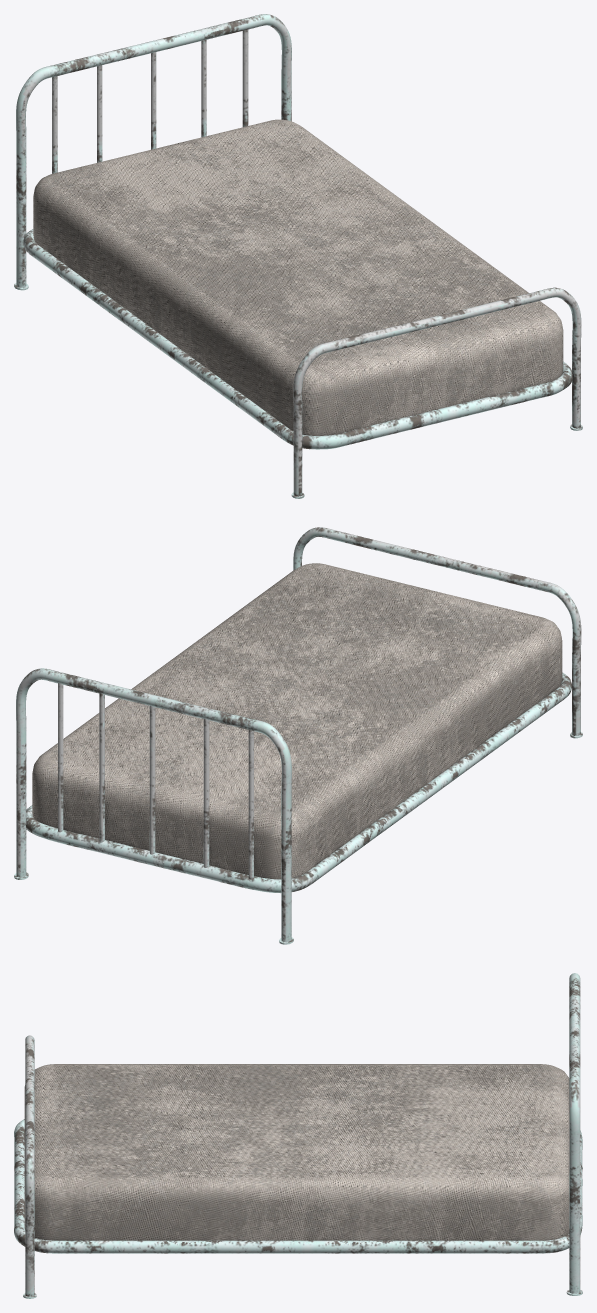
File: bed.glb
3 views of the same model, one above another, from view 1: azimuth 30°, elevation 25°; view 2: azimuth 150°, elevation 25°; view 3: azimuth 270°, elevation 25° (orthographic). The views are drawn at different scales.
Parts seen in each view (by area): view 1: Bed (×2); view 2: Bed (×2); view 3: Bed (×2).
Part boxes in pixels (x1,y1,x2,y2): Bed (×2): (14, 14, 582, 498); Bed (×2): (14, 527, 582, 944); Bed (×2): (14, 973, 582, 1298).
Bounding box in the file's own units: 1.13 × 0.7959 × 2.
2 materials, 2 textured.
